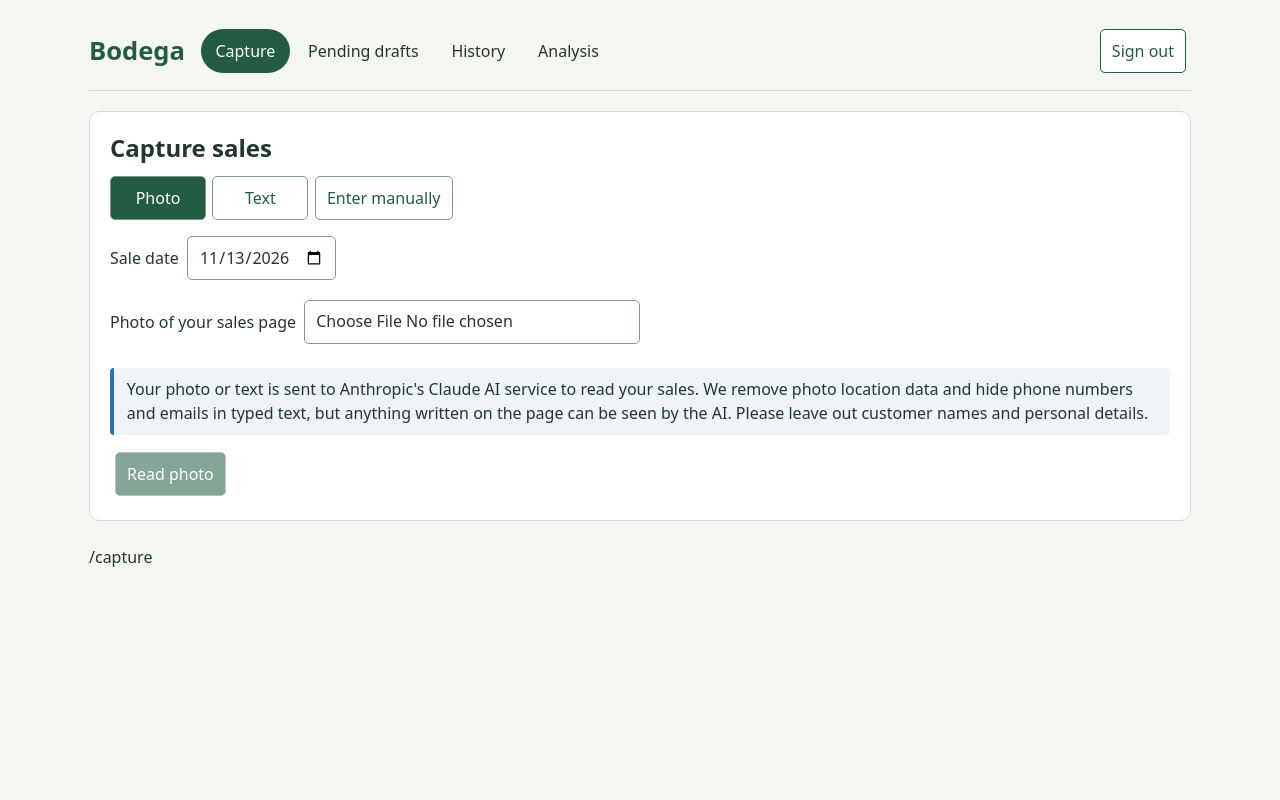
application shell › shows the main navigation and moves between pages
The width and height of the screenshot is (1280, 800).
Check: the text with test id "location" reads "/capture", box [89,546,152,568]
Check: the heading "Capture sales" is shown, box [110,131,272,164]
Click the link "History" at (478, 51), box [451,40,505,62]
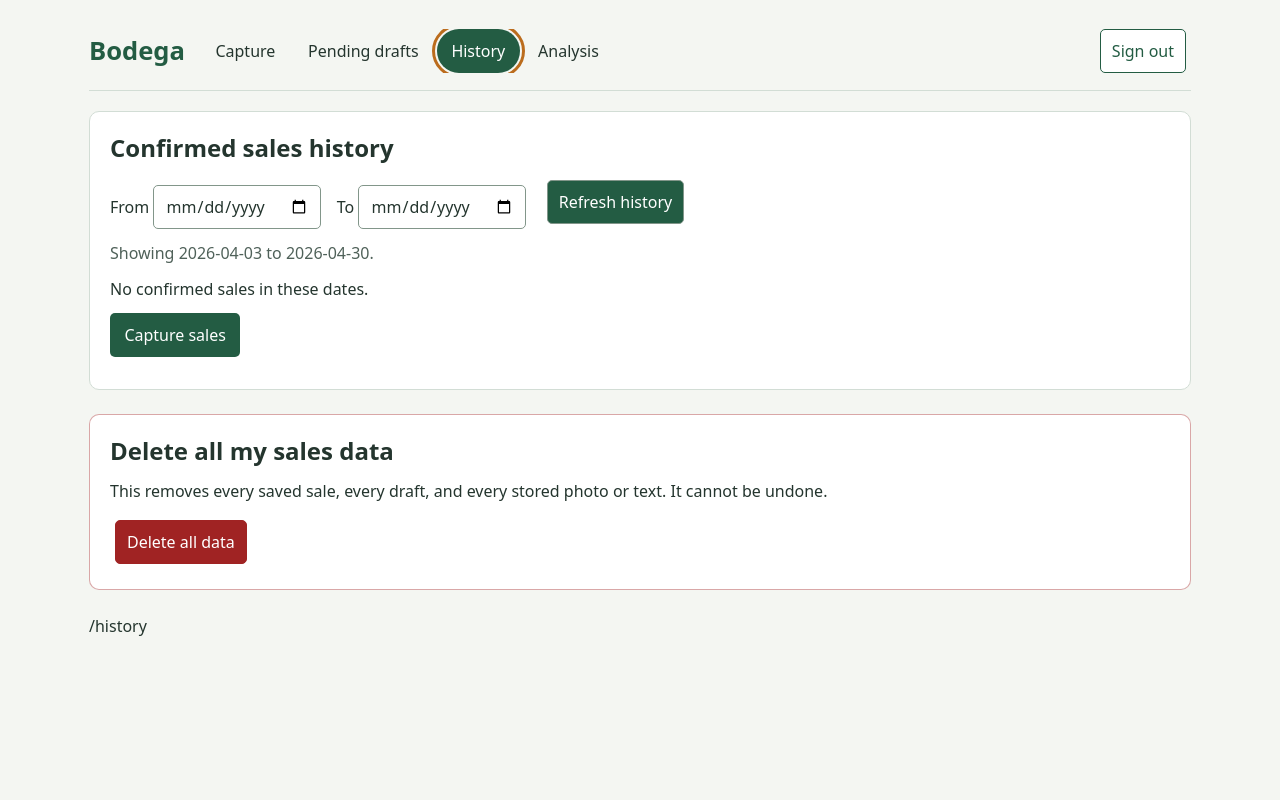
Check: the text with test id "location" reads "/history", box [89,615,147,637]
